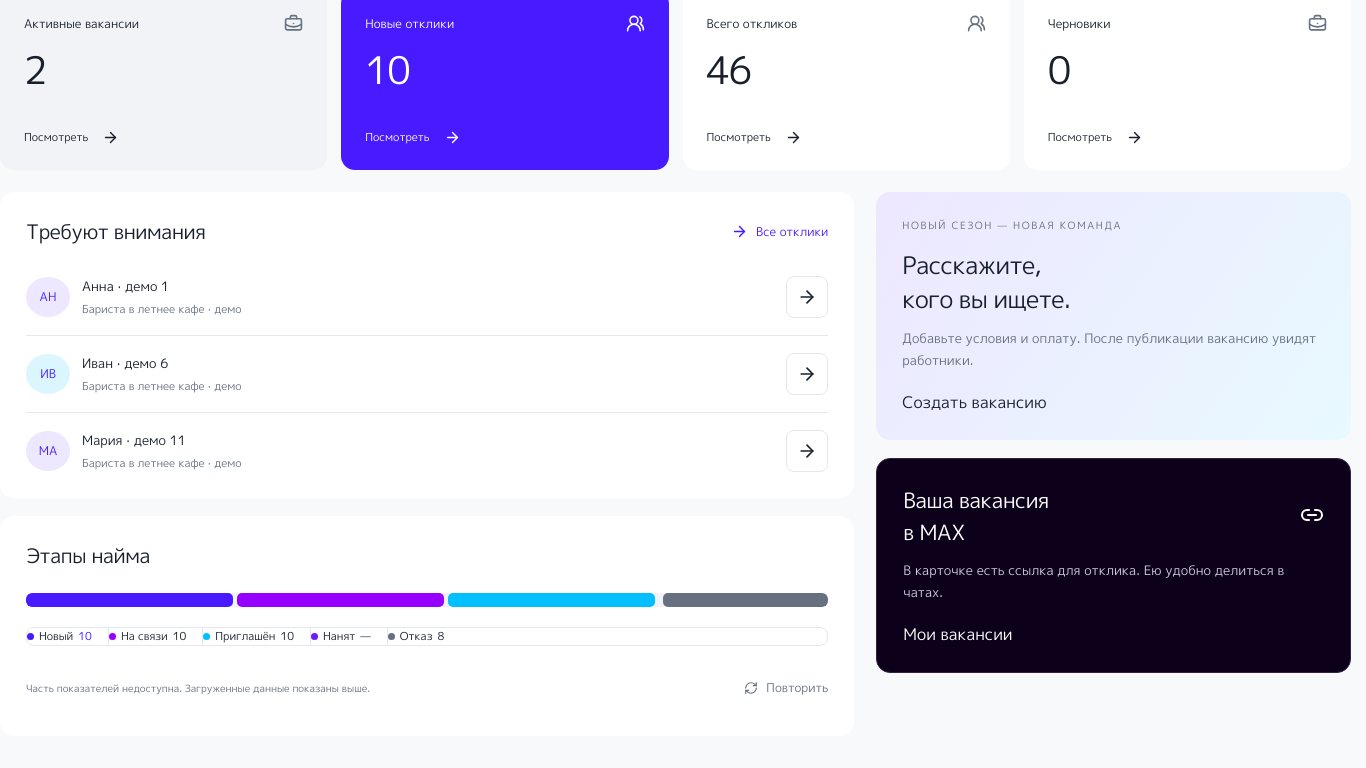
Scenario: hiring overview › retains independent totals on partial failure and recovers a missing stage
(page scrolled)
Expected: the text "Часть показателей недоступна. Загруженные данные показаны выше." is shown, 26,680 -> 370,696
Expected: the link with aria-label "Нанят: недоступно. Открыть отклики" shows "—", 310,628 -> 371,645
Click the button "Повторить" at (786, 688), box 744,666 -> 828,710
(page scrolled)
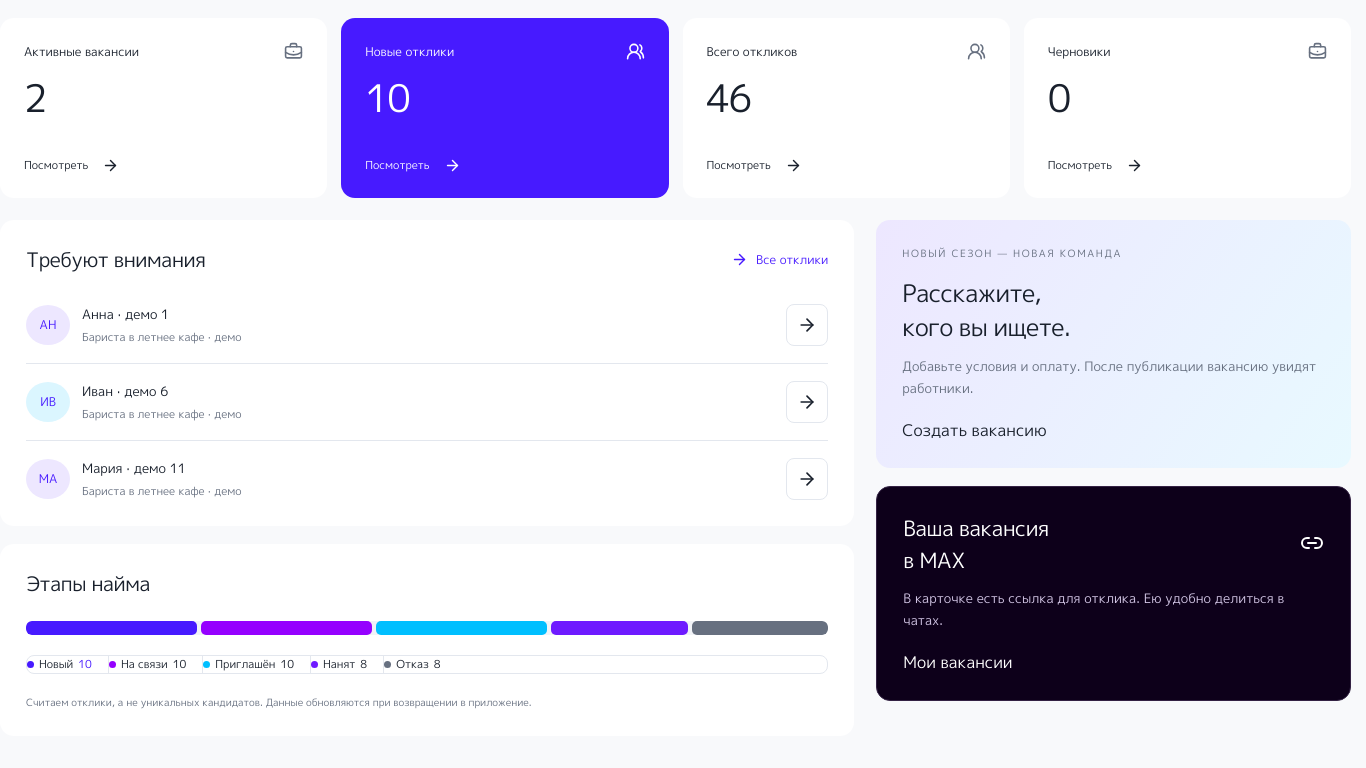
Now the link with aria-label "Нанят: 8. Открыть отклики" is shown, box 310,656 -> 367,673
Now the text "Часть показателей недоступна" is gone
